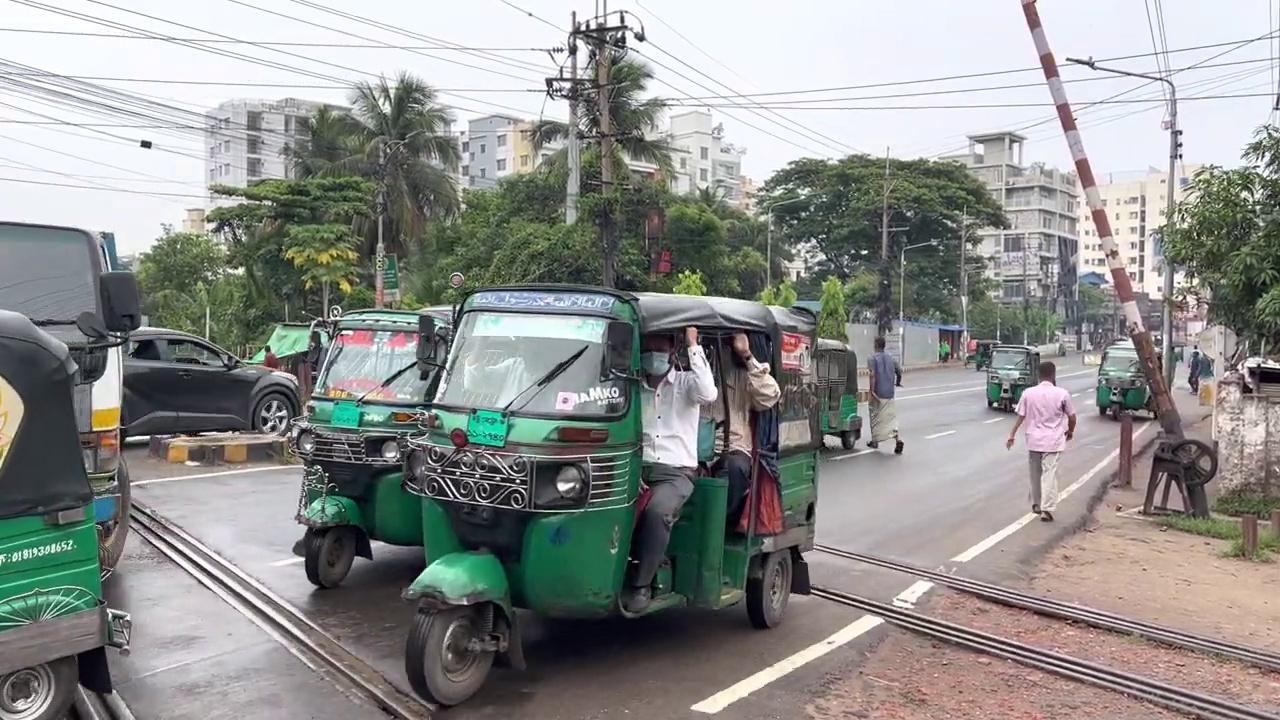Bollard: (119, 325, 301, 445)
Car: (122, 493, 432, 718)
Fence: (619, 325, 718, 613), (698, 331, 782, 536), (1006, 361, 1076, 521), (865, 335, 904, 454), (1187, 345, 1202, 394)
Garbage: (1020, 0, 1184, 437), (564, 10, 581, 226)
Railroad-crossing: (753, 149, 1010, 336), (522, 44, 687, 288), (1151, 121, 1279, 361)
Rickshaw: (398, 281, 824, 705), (0, 220, 141, 718), (287, 304, 457, 588)
